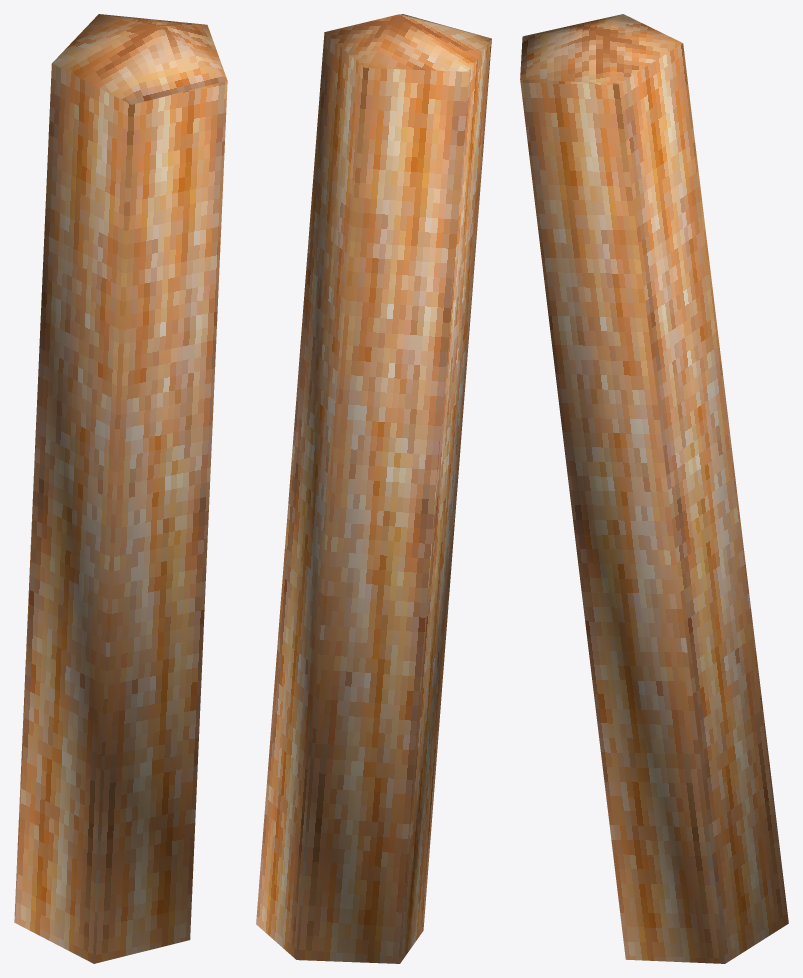
Rendered from H_Churros.fbx.
3 renders of one model, left to right at view 1: azimuth 30°, elevation 25°; view 2: azimuth 150°, elevation 25°; view 3: azimuth 270°, elevation 25°, orthographic. The views are drawn at different scales.
Visible parts, largest first — view 1: Churros; view 2: Churros; view 3: Churros.
Part boxes in pixels (x1=…): Churros: x1=14, y1=14, x2=227, y2=963; Churros: x1=256, y1=14, x2=491, y2=963; Churros: x1=520, y1=14, x2=788, y2=963.
Size of the model in its own units: 6.71 by 35.68 by 9.47.
